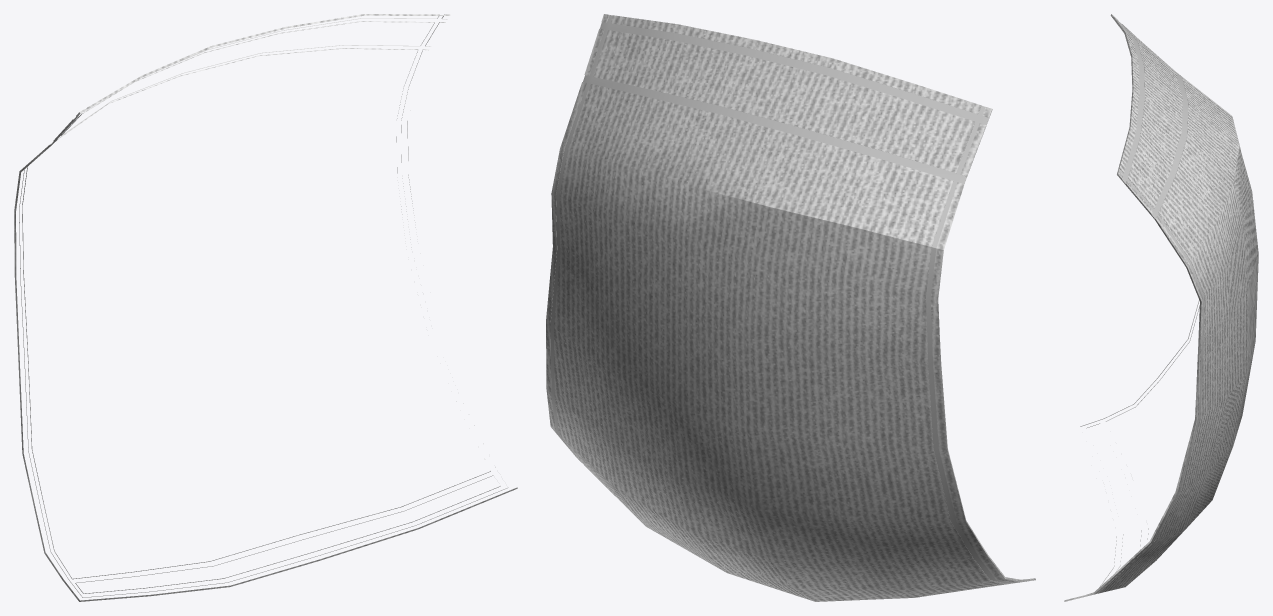
Rendered from Decor_Hood_Back.glb.
3 renders of one model, left to right at view 1: azimuth 30°, elevation 25°; view 2: azimuth 150°, elevation 25°; view 3: azimuth 270°, elevation 25°, orthographic. The views are drawn at different scales.
Parts seen in each view (by area): view 1: Decor_Hood_Back1, Rope1; view 2: Decor_Hood_Back1, Rope1; view 3: Decor_Hood_Back1, Rope1.
Boxes of the visible parts, x1,y1,x2,y2 form: Decor_Hood_Back1: [14, 14, 517, 601]; Rope1: [19, 15, 507, 597]; Decor_Hood_Back1: [546, 14, 1035, 601]; Rope1: [550, 15, 1017, 583]; Decor_Hood_Back1: [1064, 14, 1258, 601]; Rope1: [1086, 16, 1204, 593].
Size of the model in its own units: 0.2438 by 0.2839 by 0.105.
2 materials, 2 textured.
